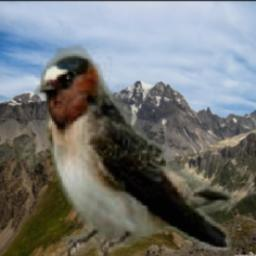Swallow: (33, 45, 235, 256)
